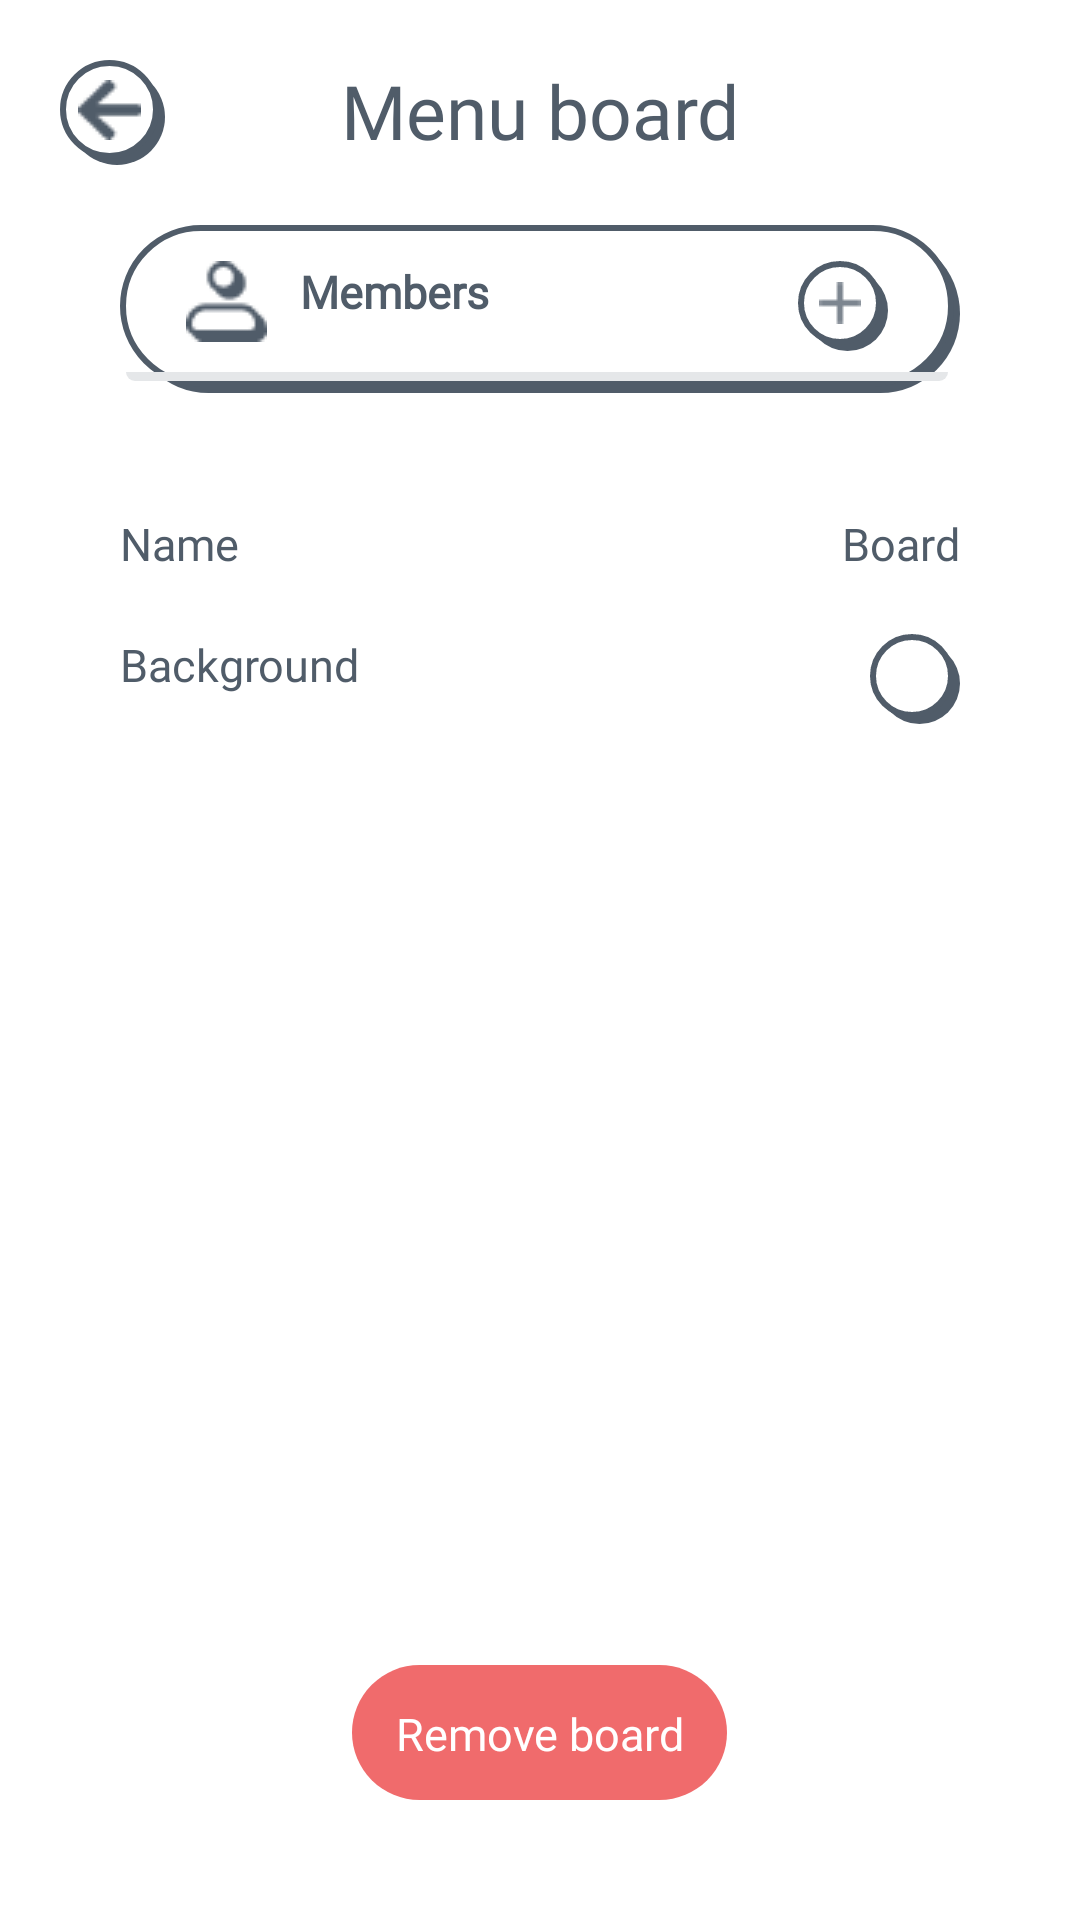

Screen size 1080 × 1920. Icon name, then its center in pixels as [x,y]:
addcardplus: [843,306]
backicon: [112,112]
